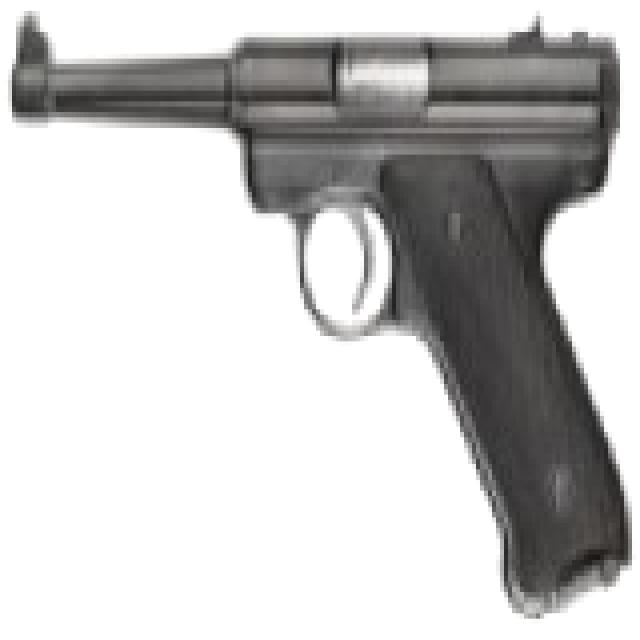pistol: (20, 5, 632, 608)
